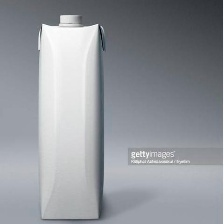carton: (29, 8, 110, 224)
